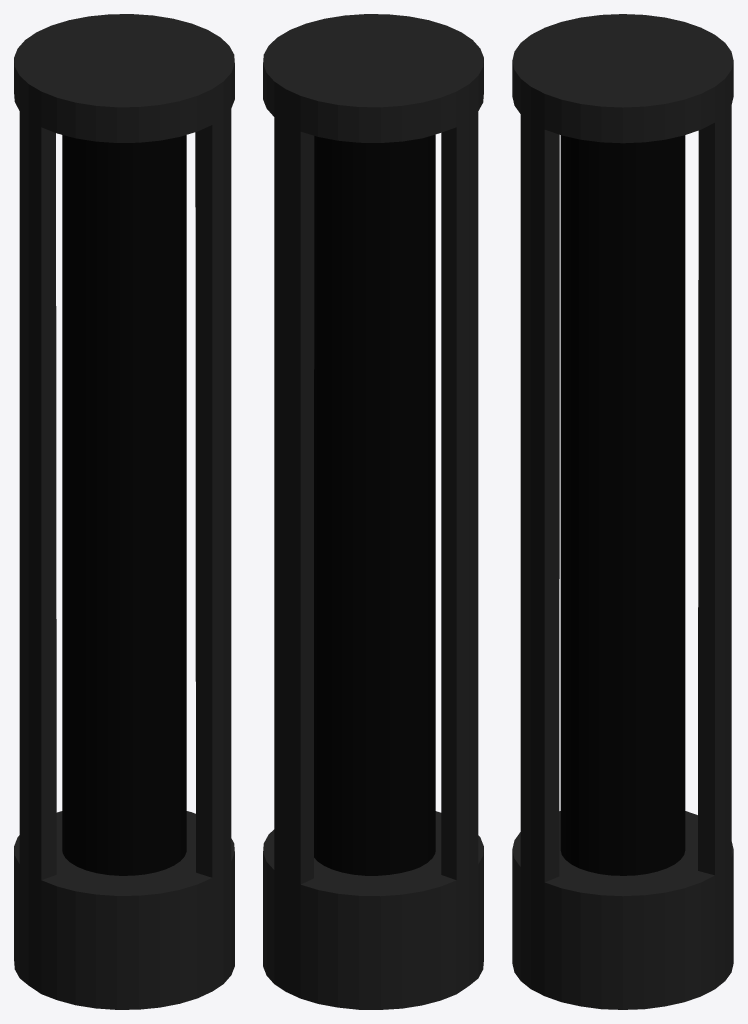
Rendered from SpectrumBar.obj.
3 views of the same model, side by side, from view 1: azimuth 30°, elevation 25°; view 2: azimuth 150°, elevation 25°; view 3: azimuth 270°, elevation 25° (orthographic).
Parts seen in each view (by area): view 1: barFrame, bar; view 2: barFrame, bar; view 3: barFrame, bar.
Boxes of the visible parts, bbox=[...] form: barFrame: bbox=[14, 14, 234, 1009]; bar: bbox=[62, 135, 186, 875]; barFrame: bbox=[263, 14, 483, 1009]; bar: bbox=[314, 134, 435, 875]; barFrame: bbox=[512, 14, 733, 1009]; bar: bbox=[560, 135, 685, 875].
Size of the model in its own units: 2 by 9 by 2.
2 materials, 1 textured.
